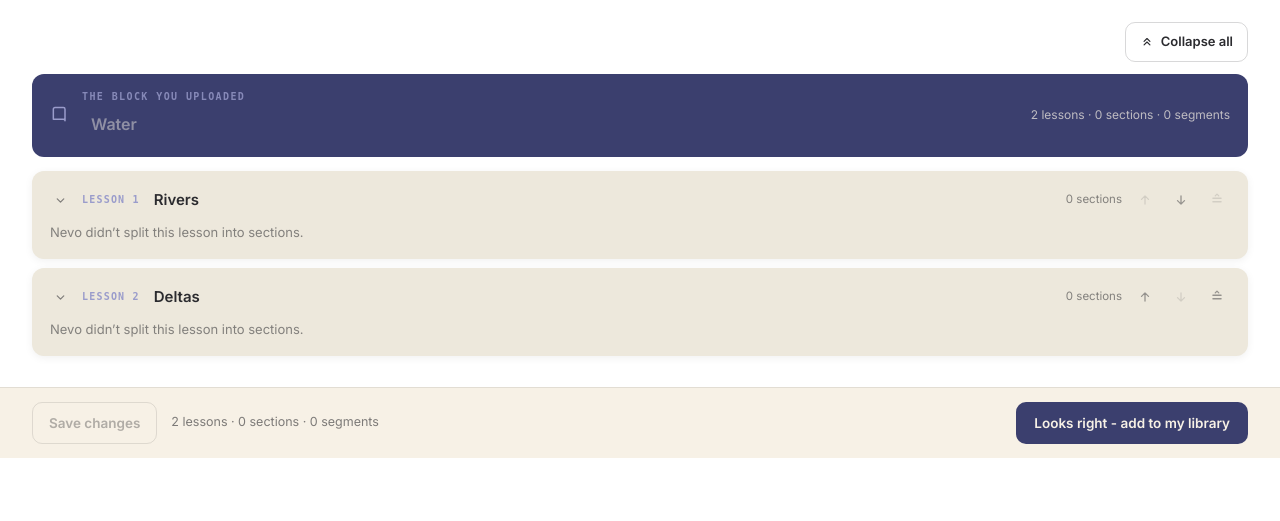
Test case: adding a unit to the library › says nothing of the kind when the commit failed
Click the button "Looks right - add to my library" at (1132, 423), box [1016, 402, 1248, 444]
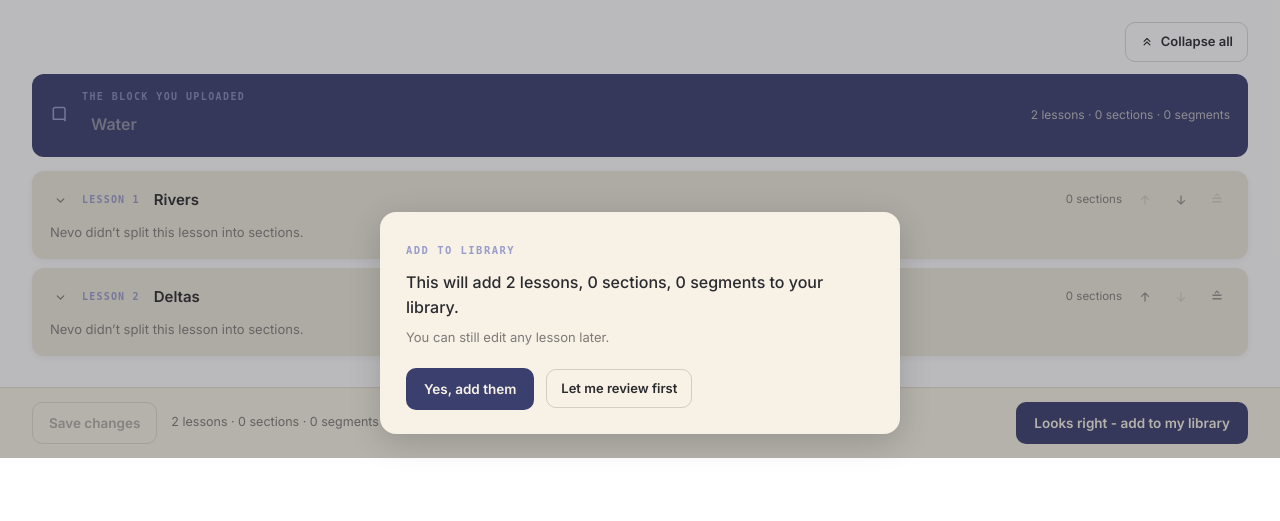
Click the button "Yes, add them" at (470, 389), box [406, 368, 534, 410]
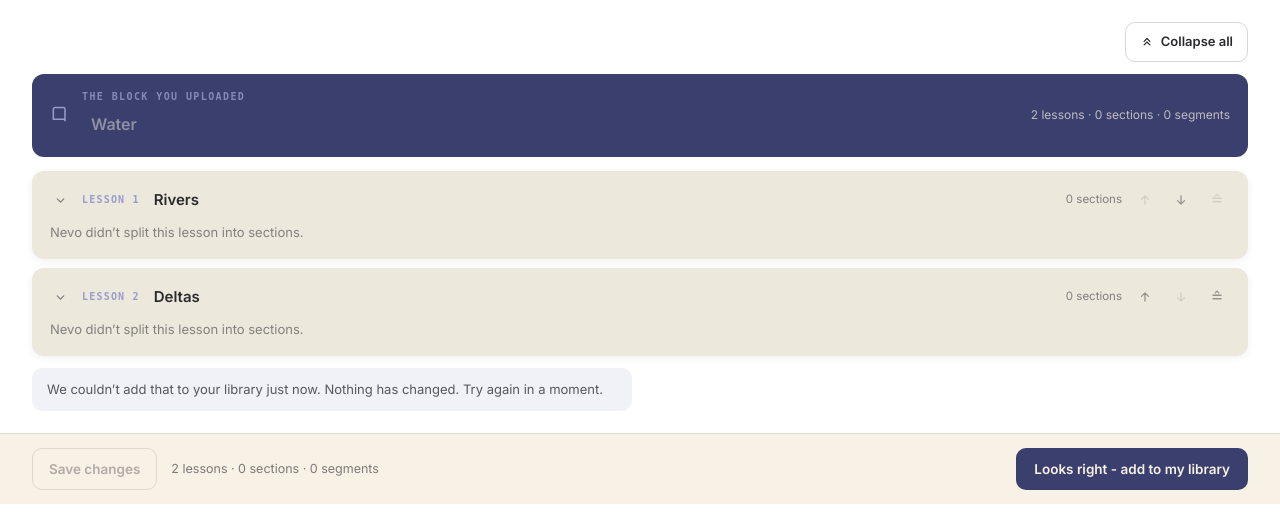
Check: the text "couldn.t add that to your library" is shown, box [47, 380, 603, 396]
